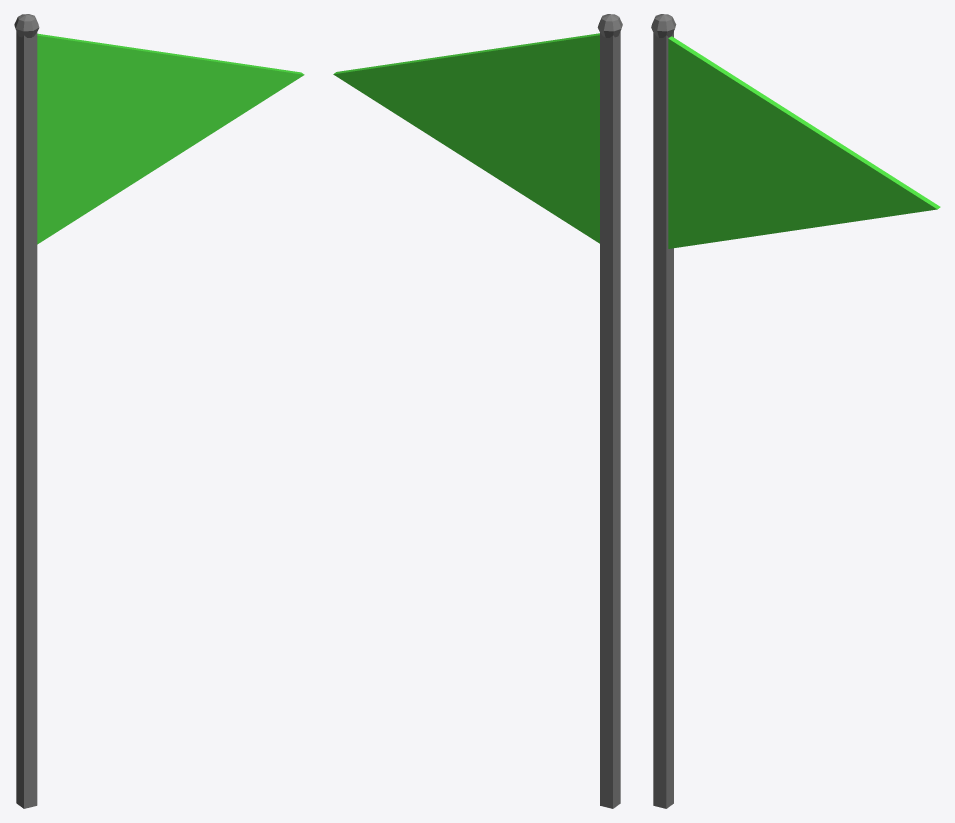
The model's file is Flag.glb.
The picture shows the model from 3 angles, left to right: view 1: azimuth 30°, elevation 25°; view 2: azimuth 150°, elevation 25°; view 3: azimuth 330°, elevation 25°; orthographic projection.
Parts seen in each view (by area): view 1: Flag; view 2: Flag; view 3: Flag.
Part boxes in pixels (x1,y1,x2,y2): Flag: [14, 14, 304, 808]; Flag: [333, 14, 622, 808]; Flag: [651, 14, 940, 808].
Size of the model in its own units: 1.55 by 4.07 by 0.1219.
